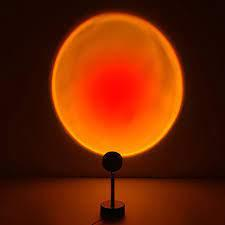Lamp: (45, 10, 186, 221)
